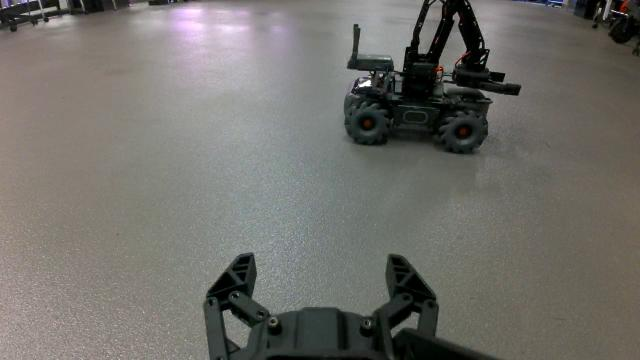robot: (343, 0, 523, 155)
